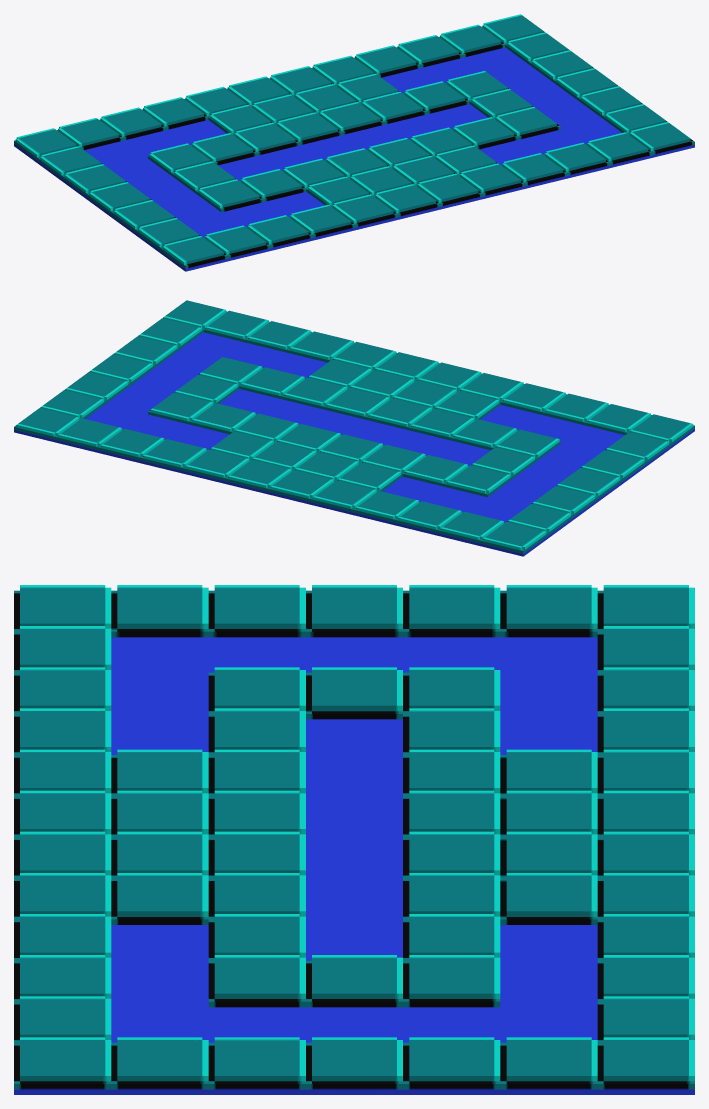
File: FloorWaterMailSlot.glb
The picture shows the model from 3 angles, top to bottom: view 1: azimuth 30°, elevation 25°; view 2: azimuth 150°, elevation 25°; view 3: azimuth 270°, elevation 25°; orthographic projection. The views are drawn at different scales.
Parts seen in each view (by area): view 1: FloorWaterMailSlot; view 2: FloorWaterMailSlot; view 3: FloorWaterMailSlot.
Part boxes in pixels (bbox=[...]): FloorWaterMailSlot: bbox=[14, 14, 694, 271]; FloorWaterMailSlot: bbox=[14, 300, 694, 556]; FloorWaterMailSlot: bbox=[14, 585, 694, 1094].
Size of what is drawn, in the model's own units: 19.2 by 0.3 by 11.2.
1 material, 1 textured.
